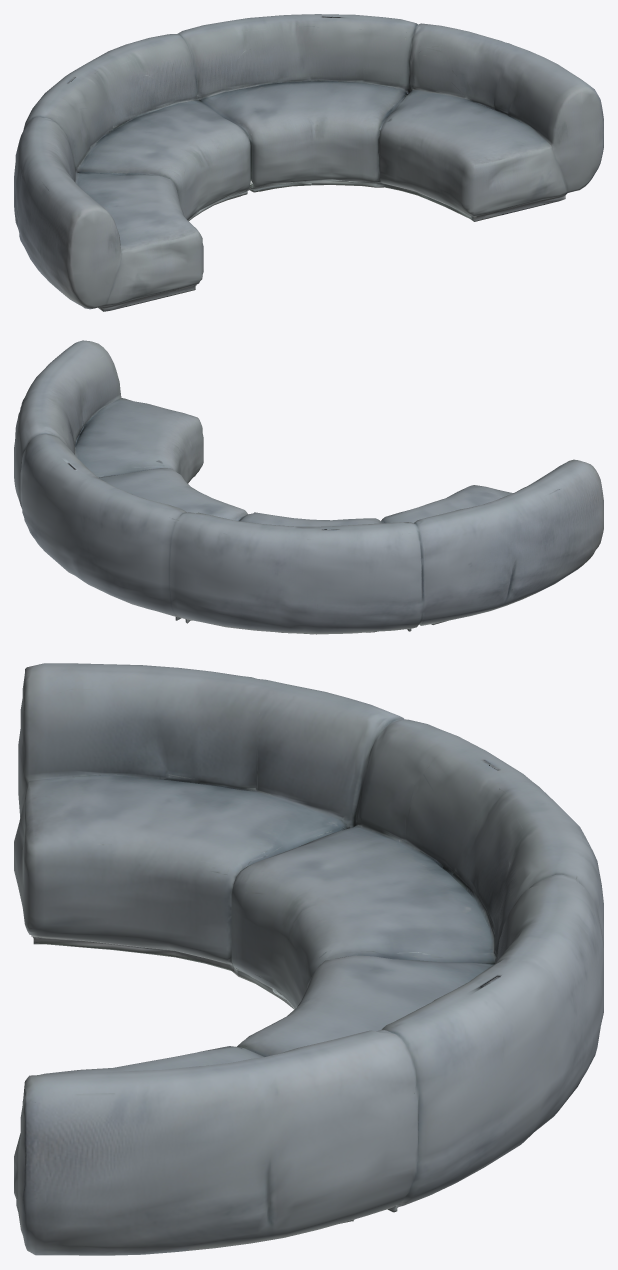
The model's file is grey_curved_sofa_0127183235_texture.glb.
3 views of the same model, one above another, from view 1: azimuth 30°, elevation 25°; view 2: azimuth 150°, elevation 25°; view 3: azimuth 270°, elevation 25° (orthographic). The views are drawn at different scales.
Visible parts, largest first — view 1: Mesh_0; view 2: Mesh_0; view 3: Mesh_0.
Part boxes in pixels (box(x1,y1,x2,y2)): Mesh_0: box(14, 14, 603, 311); Mesh_0: box(14, 340, 603, 634); Mesh_0: box(14, 663, 603, 1255).
Size of the model in its own units: 4.17 by 0.8128 by 2.32.
Materials: 1 (1 with a texture image).
